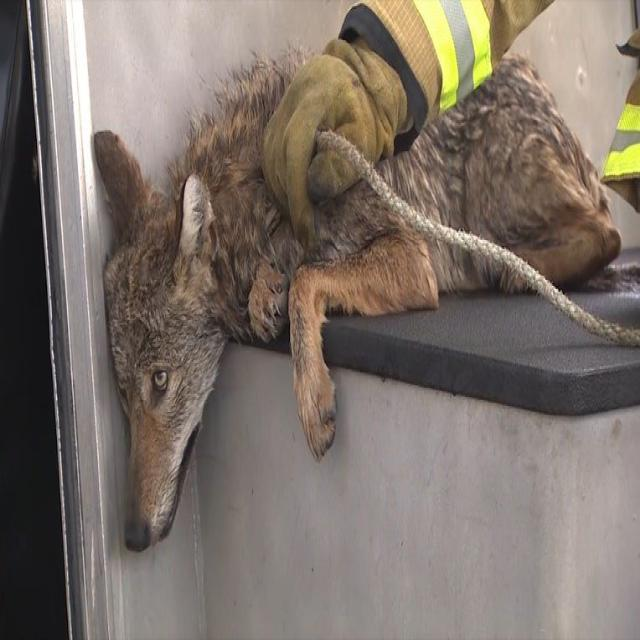Coyote: (86, 42, 619, 566)
